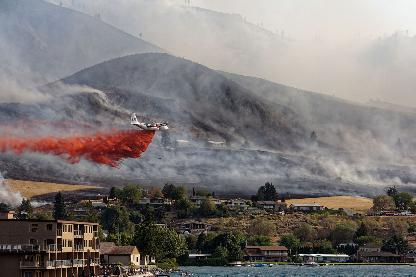Be200: (126, 112, 172, 130)
